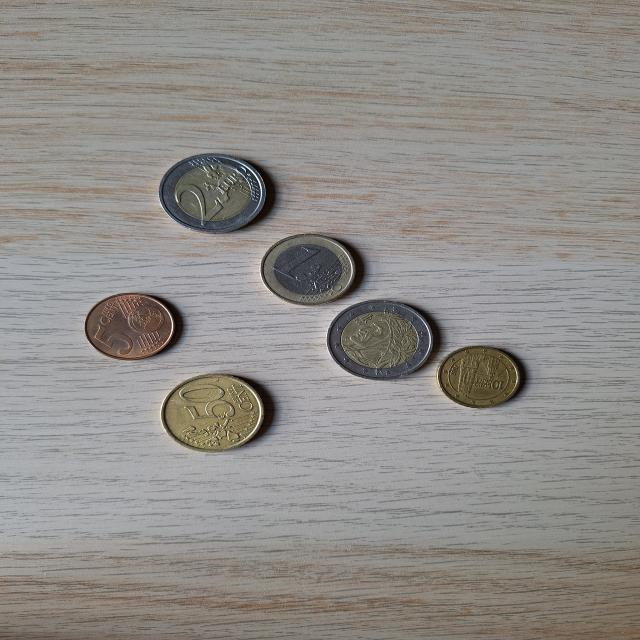10c: (426, 336, 544, 417)
1e: (250, 228, 372, 310)
2e: (318, 292, 449, 387), (152, 146, 282, 240)
50c: (154, 367, 282, 466)
5c: (74, 286, 190, 366)
